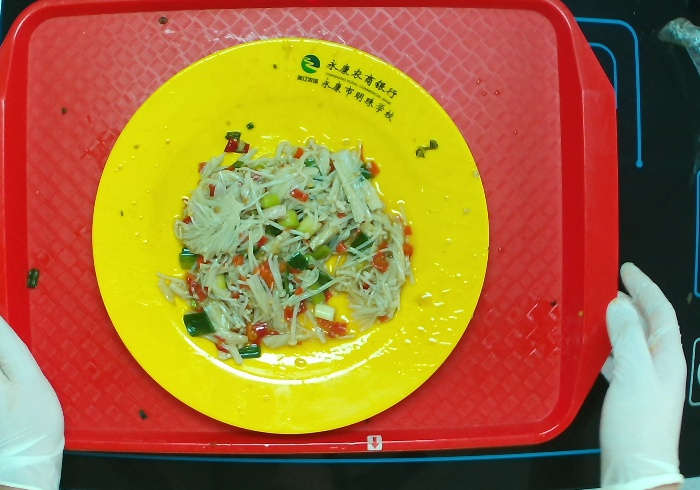YKMZ-Huang_Se_Mian_Pan: (86, 39, 492, 437)
